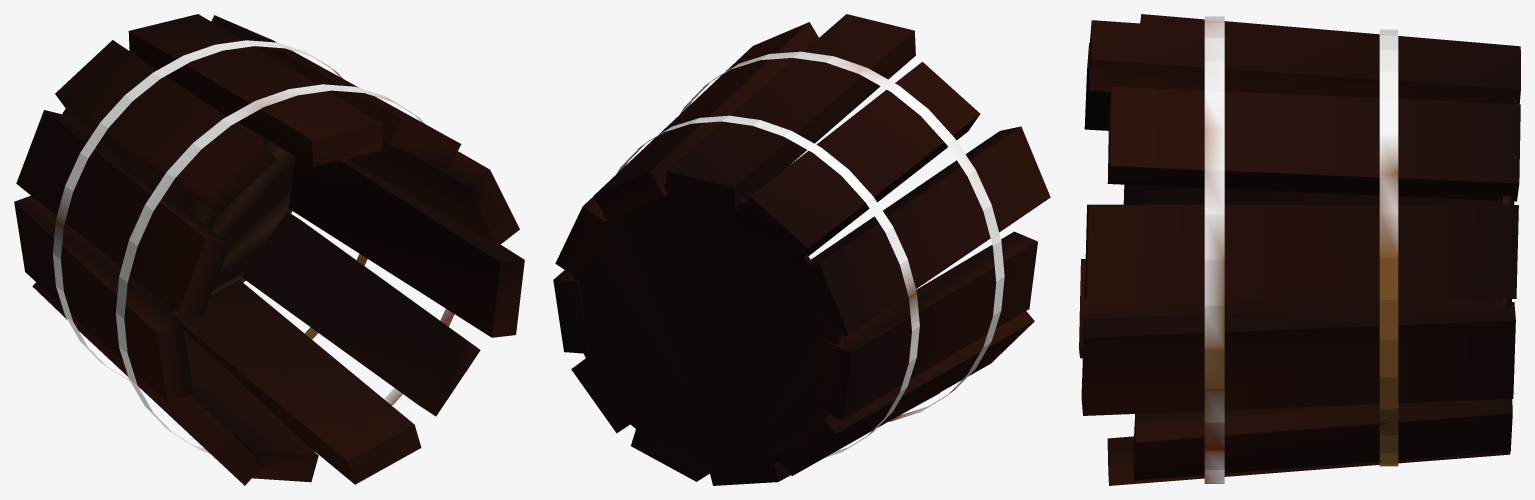
The model's file is Dustbin2.1.fbx.
3 renders of one model, left to right at view 1: azimuth 30°, elevation 25°; view 2: azimuth 150°, elevation 25°; view 3: azimuth 270°, elevation 25°, orthographic. The views are drawn at different scales.
Visible parts, largest first — view 1: Dustbin2; view 2: Dustbin2; view 3: Dustbin2.
Part boxes in pixels (x1,y1,x2,y2): Dustbin2: (14, 14, 524, 485); Dustbin2: (553, 14, 1050, 485); Dustbin2: (1079, 14, 1520, 485).
Bounding box in the file's own units: 48.78 × 45.6 × 48.33.
